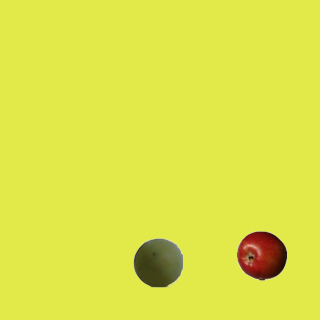Apple Braeburn: (236, 230, 286, 280)
Grape White 4: (132, 237, 182, 287)
